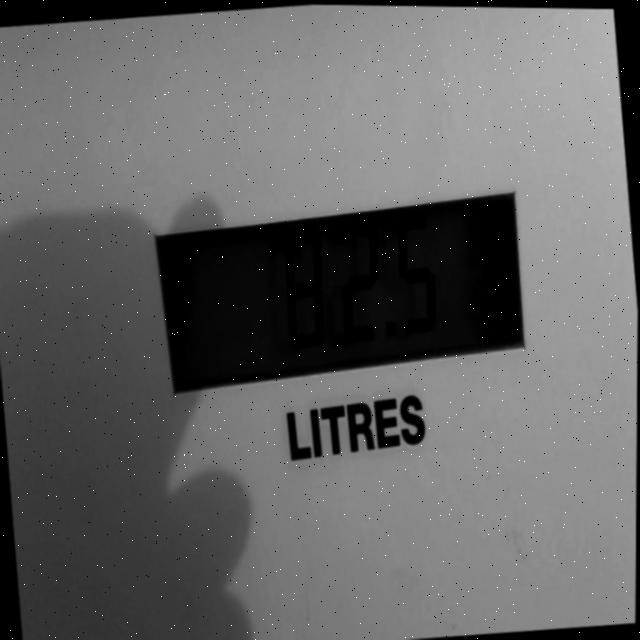.: (376, 313, 400, 352)
1: (459, 190, 511, 365)
2: (329, 209, 390, 361)
5: (388, 209, 448, 345)
8: (263, 215, 338, 367)
